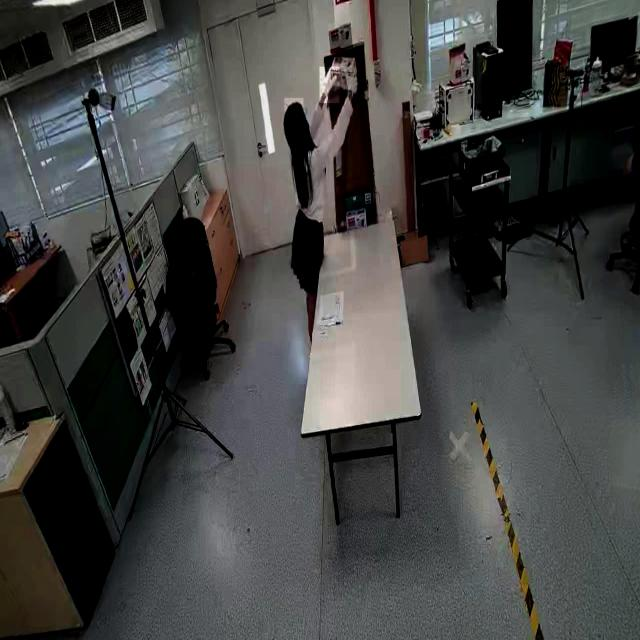hand_glove: (319, 67, 339, 104), (342, 64, 364, 97)
head_nohelmet: (284, 98, 304, 119)
person: (279, 57, 357, 353)
